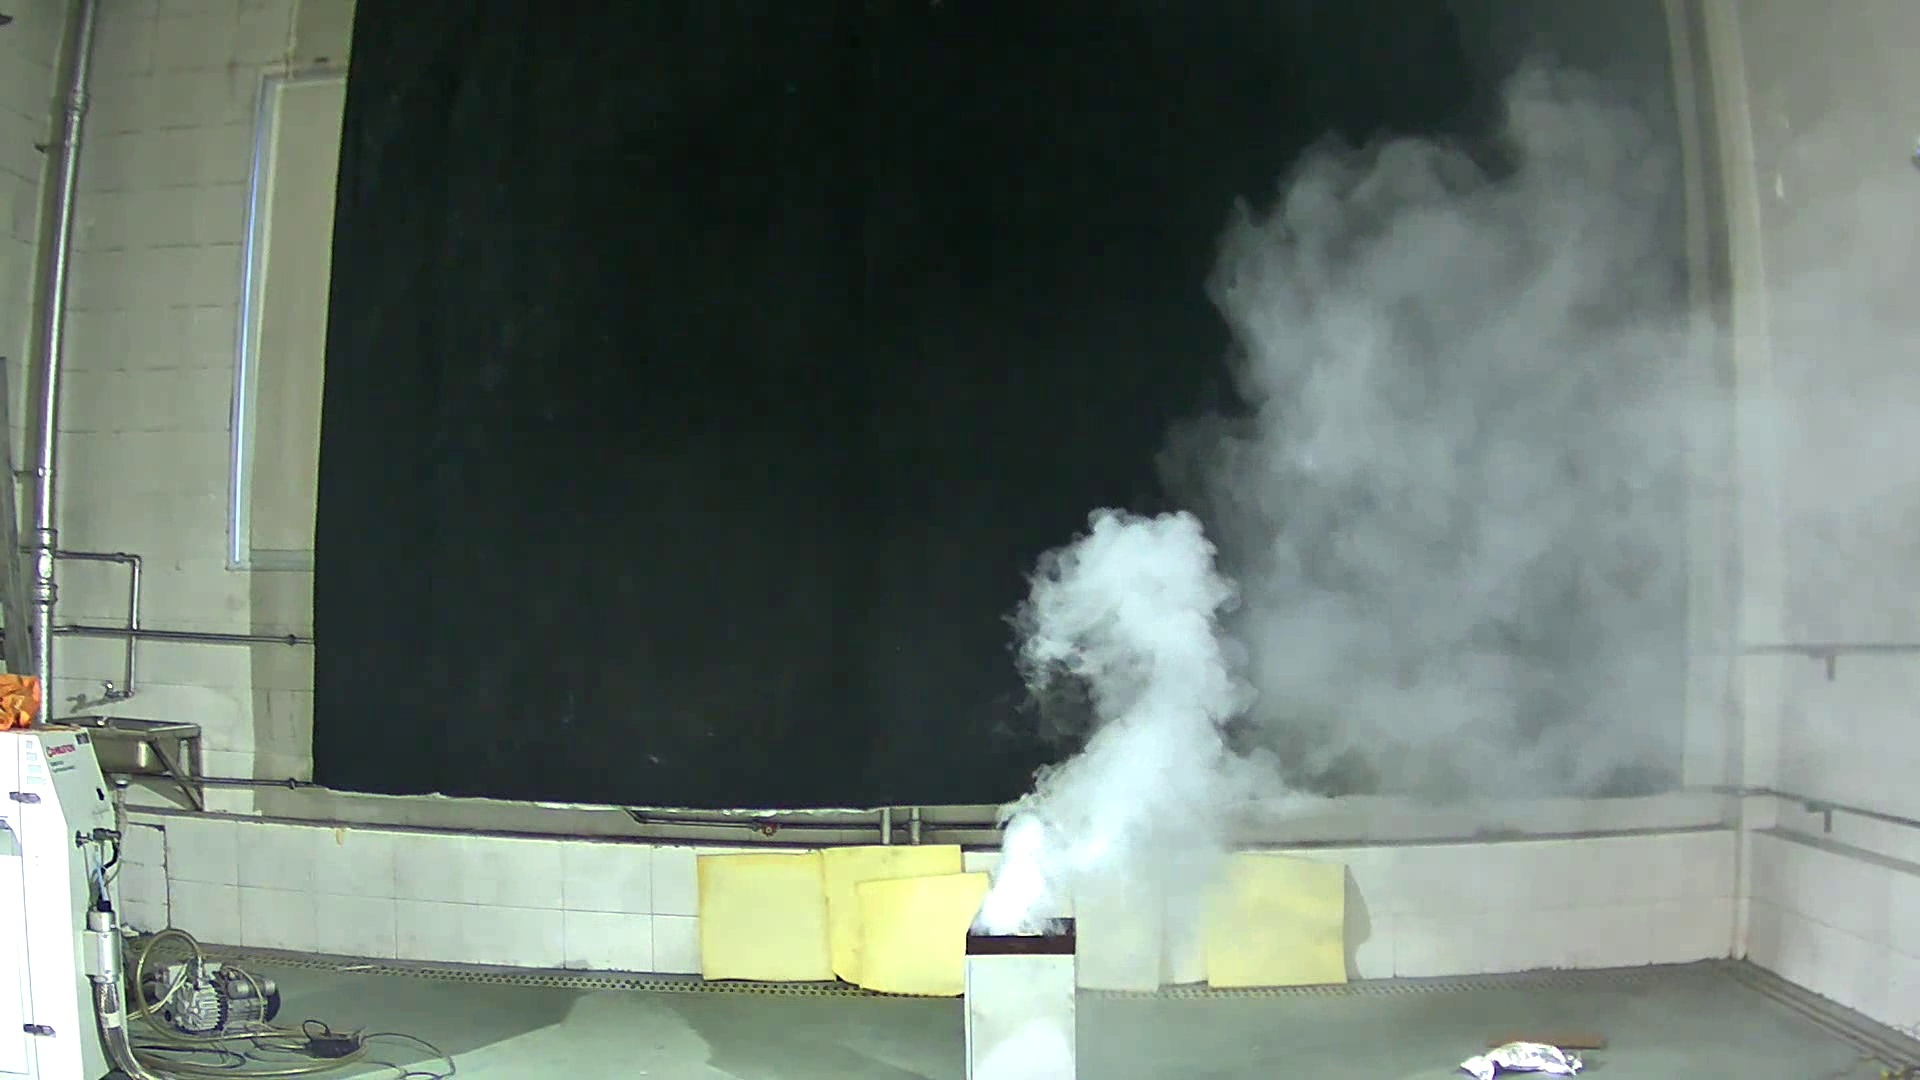smoke: (953, 61, 1683, 897)
